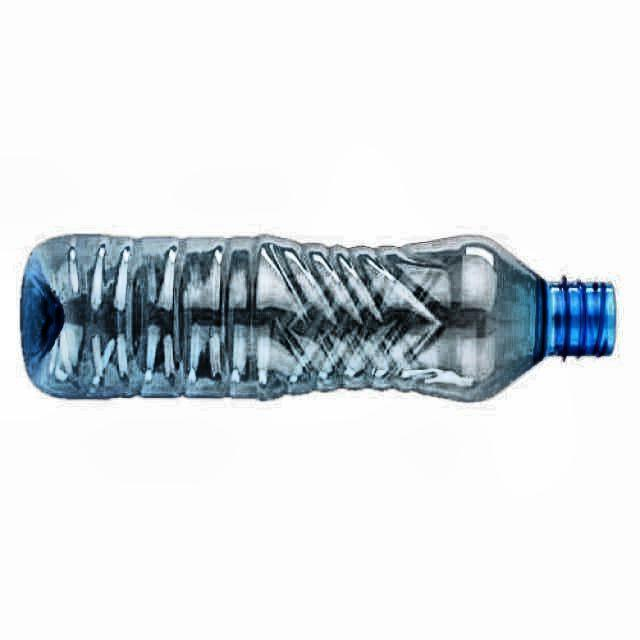plastic: (21, 235, 615, 401)
